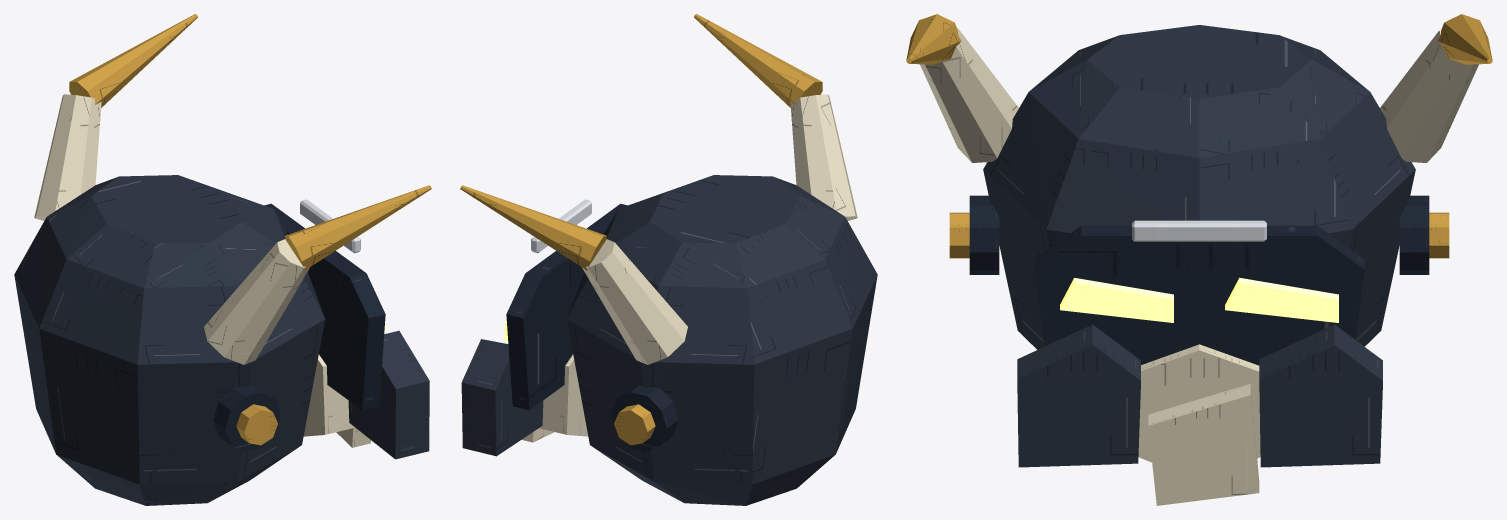
File: horned.glb
3 views of the same model, side by side, from view 1: azimuth 30°, elevation 25°; view 2: azimuth 150°, elevation 25°; view 3: azimuth 270°, elevation 25° (orthographic). The views are drawn at different scales.
Parts seen in each view (by area): view 1: head; view 2: head; view 3: head.
Part boxes in pixels (x1,y1,x2,y2): head: (14,14,431,505); head: (460,14,877,505); head: (906,14,1492,505).
Size of the model in its own units: 0.319 by 0.3279 by 0.412.
6 materials, 6 textured.
